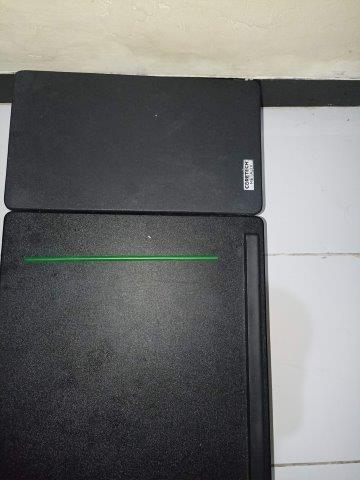sedotan: (24, 256, 219, 262)
